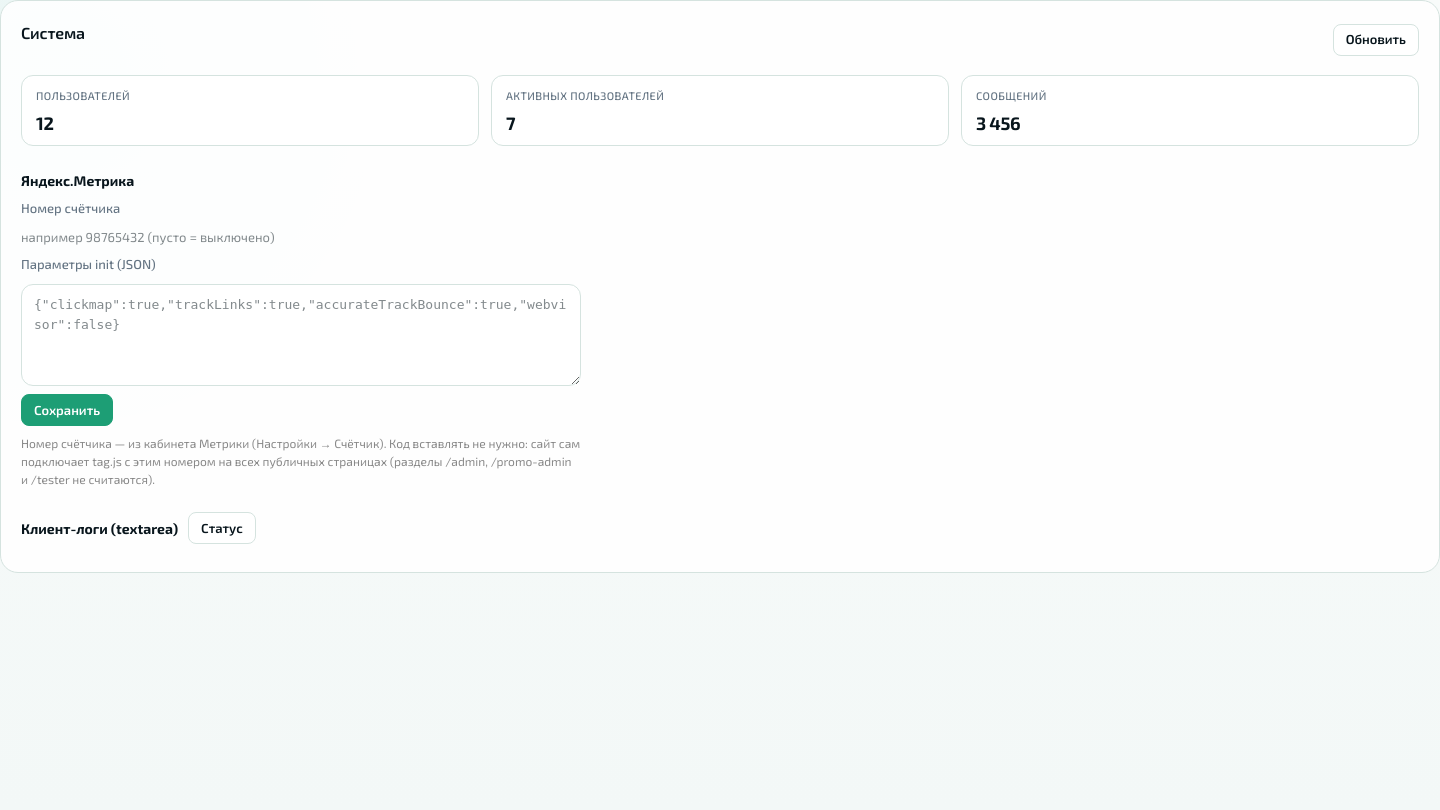
Test: AdminSystemTab Яндекс.Метрика › shows backend validation error on save failure
The width and height of the screenshot is (1440, 810).
Type "abc" into the field with placeholder "например 98765432 (пусто = выключено)" at (301, 237), box [21,228,581,247]
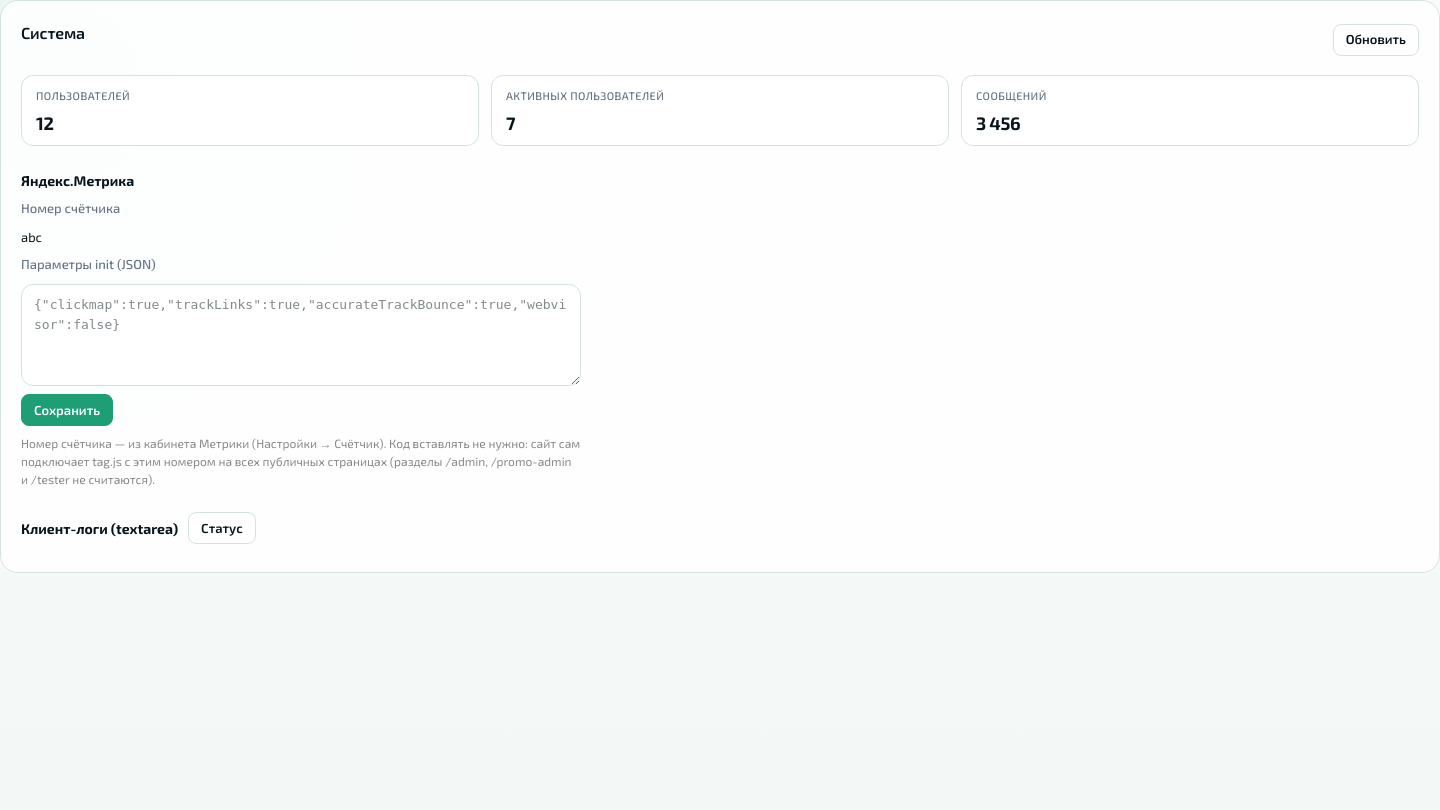
Click the button "Сохранить" at (67, 410), box [21,394,113,426]
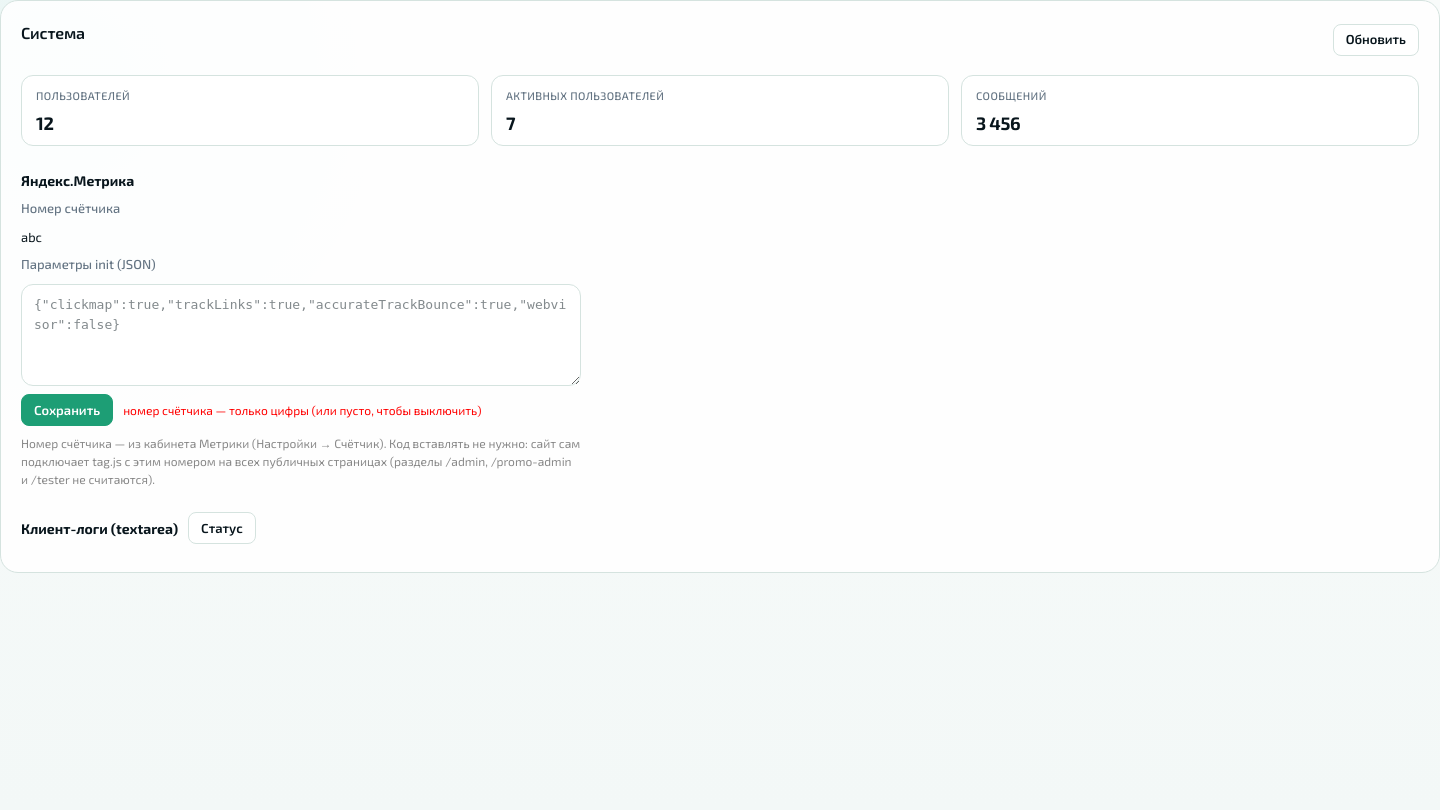
Expected: the text "номер счётчика — только цифры (или пусто, чтобы выключить)" is shown, [123,401,482,419]
